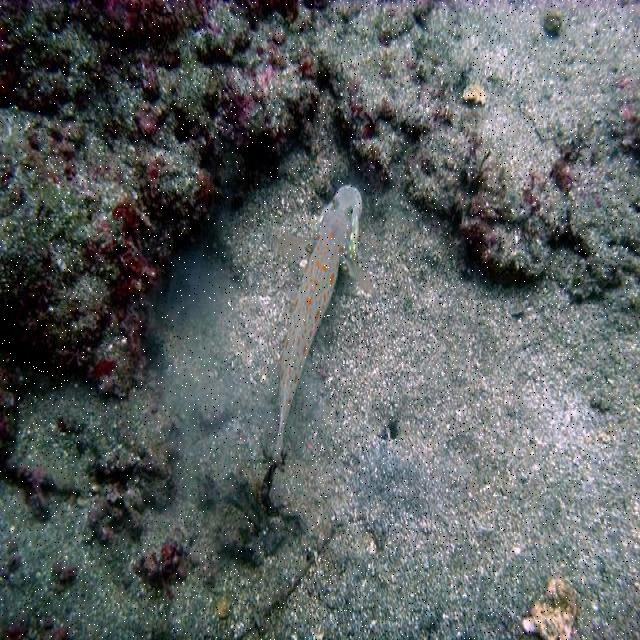fish: (266, 185, 373, 464)
